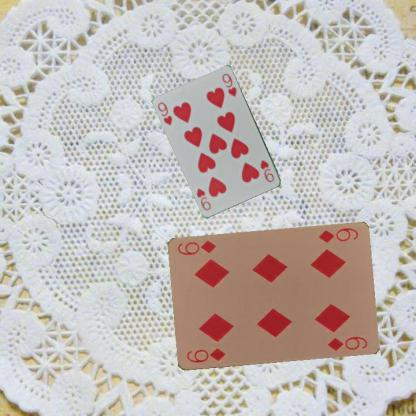6d: (315, 225, 360, 245), (184, 346, 227, 364)
9h: (155, 100, 174, 126), (258, 157, 276, 184)
